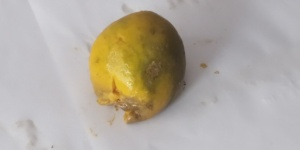BAD: (91, 9, 186, 122)
